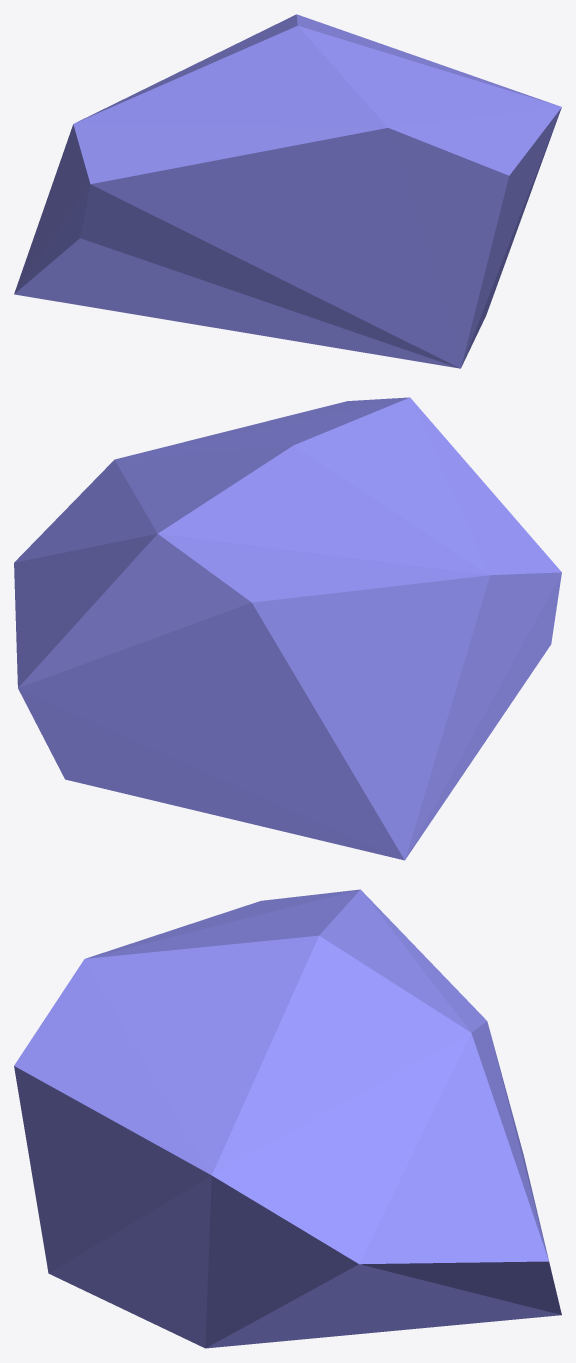
The model's file is Rock_04_Collider_01.FBX.
3 renders of one model, top to bottom at view 1: azimuth 30°, elevation 25°; view 2: azimuth 150°, elevation 25°; view 3: azimuth 270°, elevation 25°, orthographic. The views are drawn at different scales.
Parts seen in each view (by area): view 1: COLLIDER1; view 2: COLLIDER1; view 3: COLLIDER1.
Boxes of the visible parts, x1,y1,x2,y2 form: COLLIDER1: (14, 14, 561, 368); COLLIDER1: (14, 397, 561, 860); COLLIDER1: (14, 889, 561, 1348).
Size of the model in its own units: 28.63 by 16.31 by 24.25.
